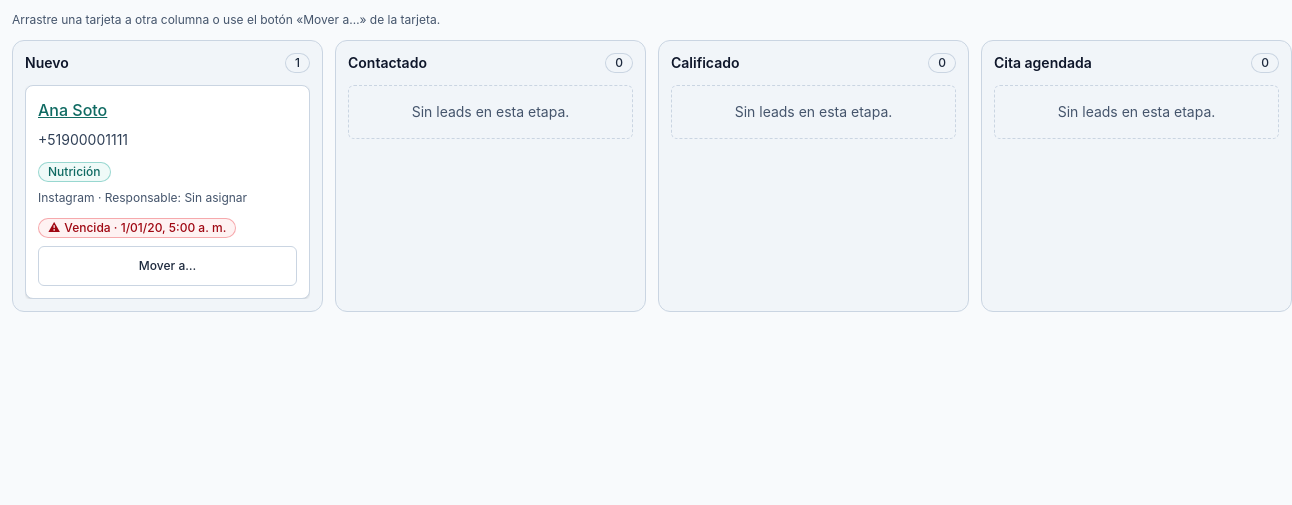
Test: KanbanBoard › si el servidor rechaza el cambio, la tarjeta vuelve y se muestra el motivo legible
Expected: the link "Ana Soto" is shown, [38,100,107,120]
Click the button with aria-label "Mover a… Ana Soto": (168,266) [38,246,297,286]
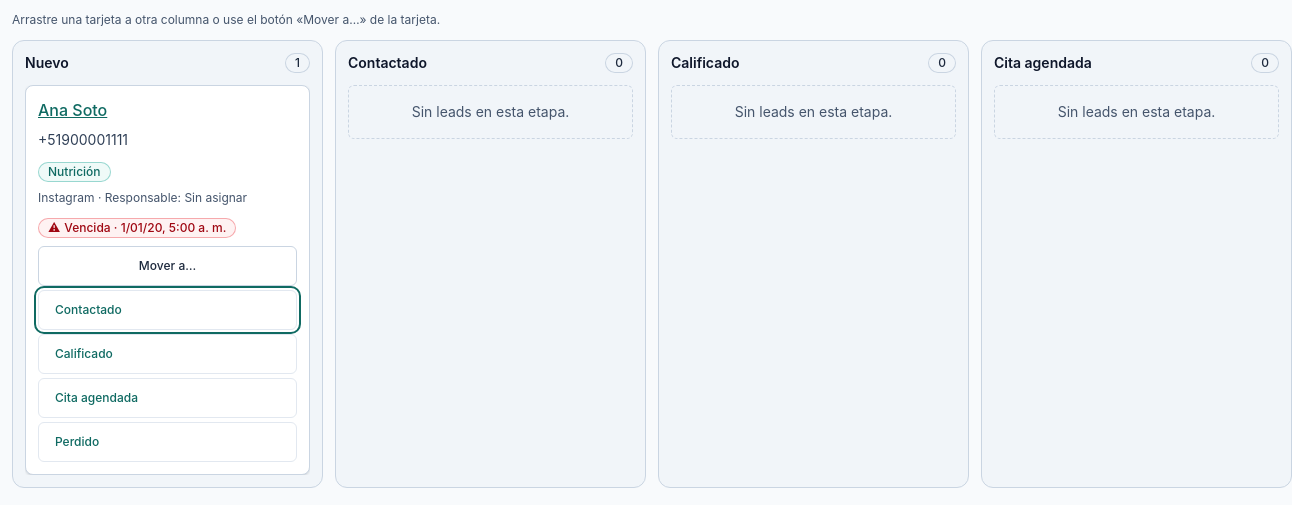
Click the button "Contactado": (168,310) [38,290,297,330]
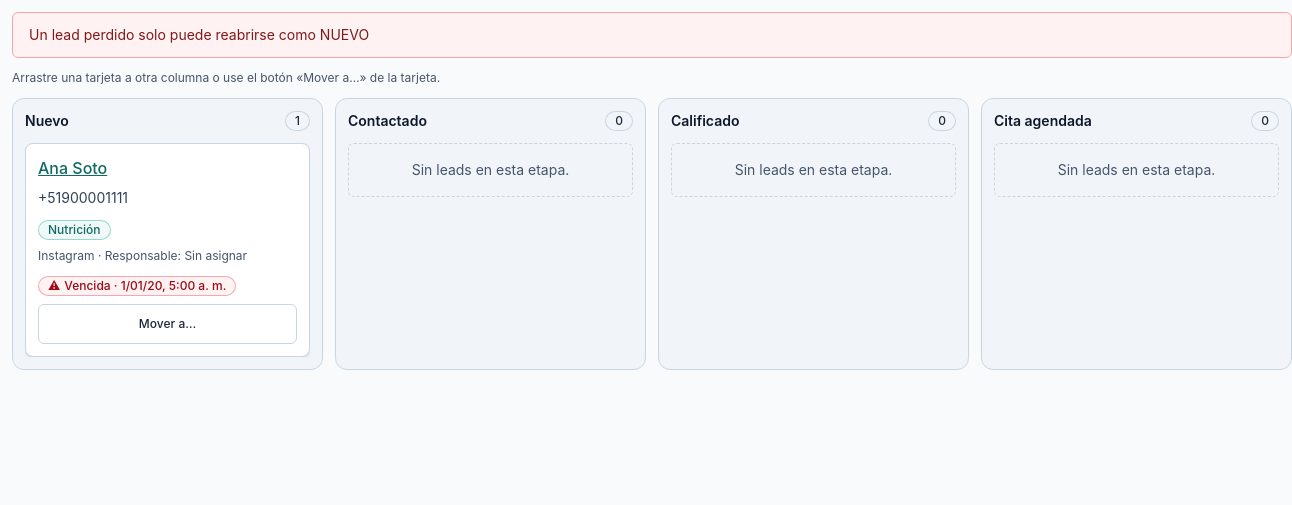
Expected: the link "Ana Soto" is shown, [38,158,107,178]
Expected: the text "Un lead perdido solo puede reabrirse como NUEVO" is shown, [29,26,369,43]
